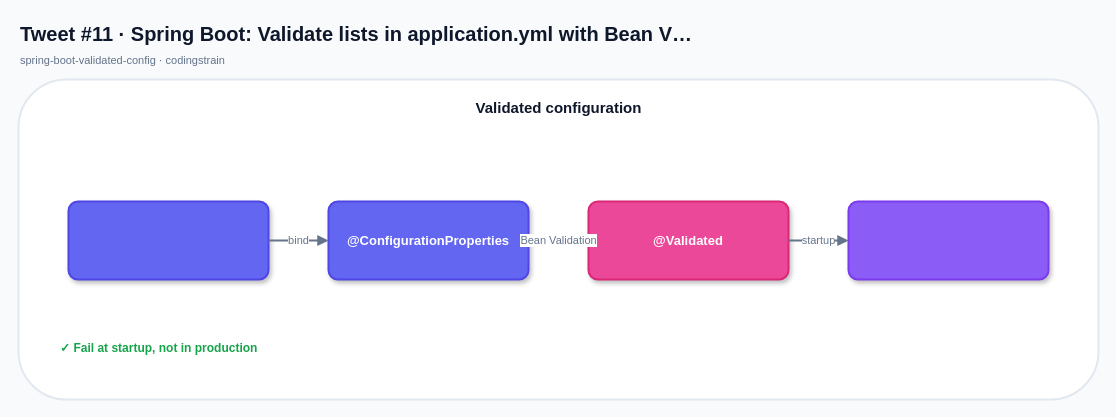
Image size: 1116x417. Some labels were removed from this diagram. Each missing label, with the centre of its shape:
"application.yml" belongs at point 169,241.
"Spring Context" belongs at point 949,241.
